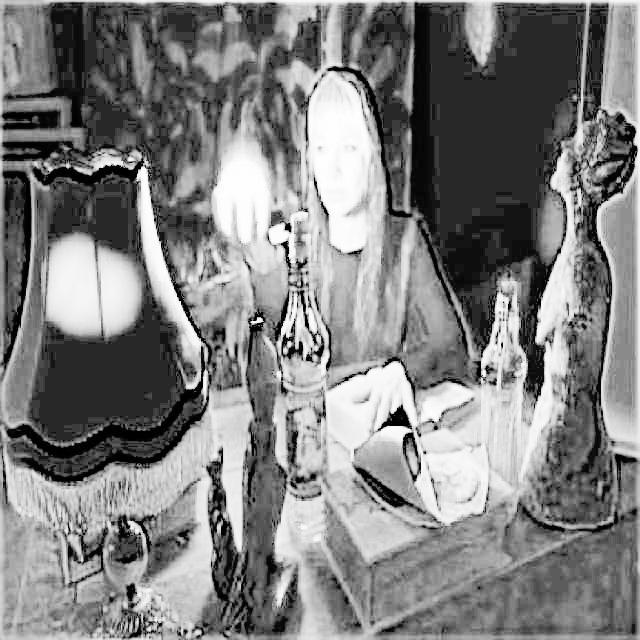Person: (288, 62, 481, 428)
